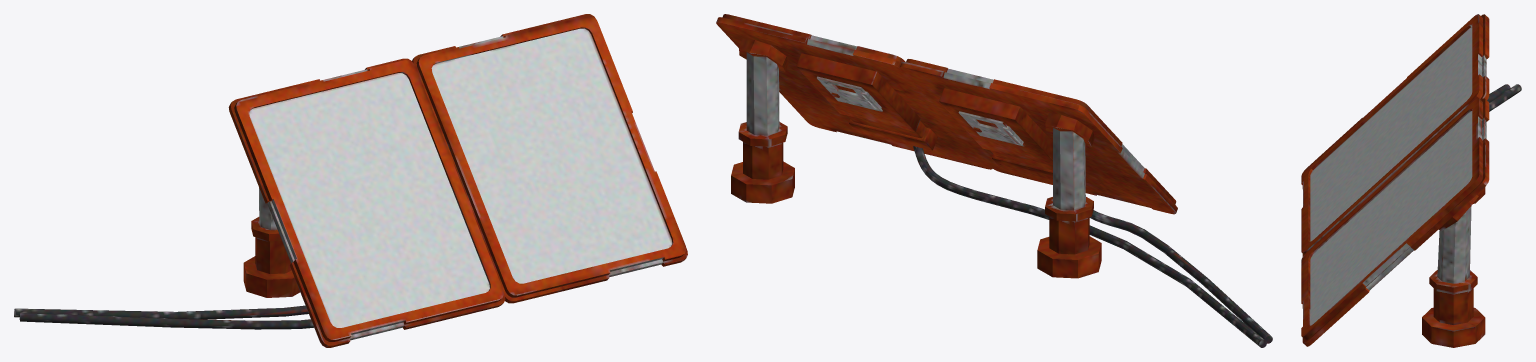
Rendered from solar.fbx.
The picture shows the model from 3 angles, left to right: view 1: azimuth 30°, elevation 25°; view 2: azimuth 150°, elevation 25°; view 3: azimuth 270°, elevation 25°; orthographic projection. The views are drawn at different scales.
Visible parts, largest first — view 1: Cube.004; view 2: Cube.004; view 3: Cube.004.
Part boxes in pixels (<box>): Cube.004: <box>14,14,687,347</box>; Cube.004: <box>716,14,1272,347</box>; Cube.004: <box>1301,14,1521,347</box>.
Bounding box in the file's own units: 1478 × 456 × 530.
